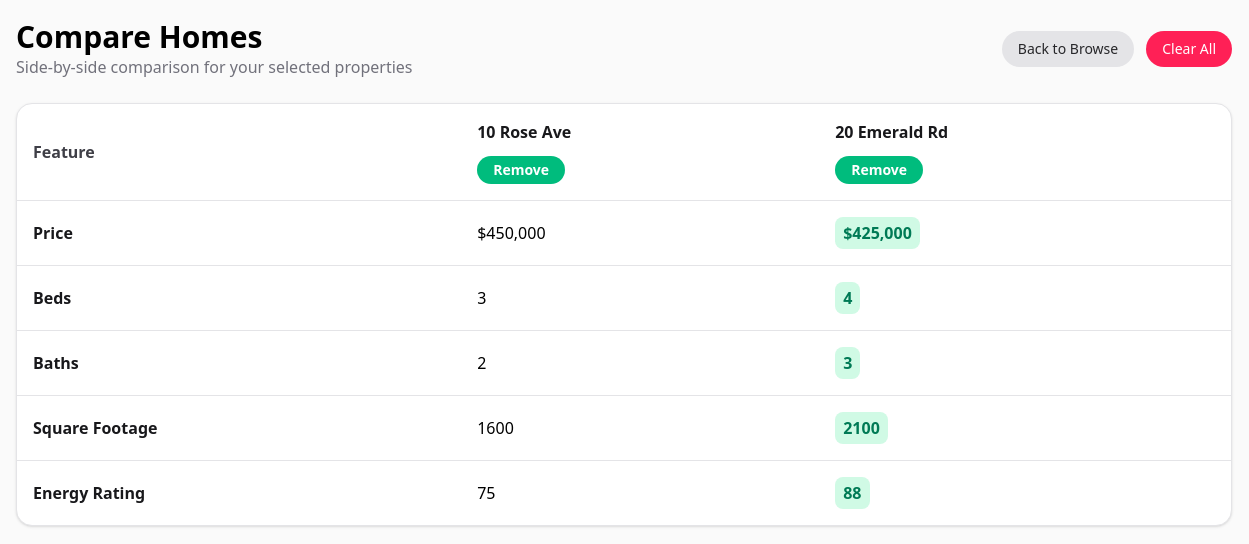
Test case: ComparisonPage › clears all selected listings from the page
The image size is (1249, 544).
Expected: the heading "Compare Homes" is shown, [16,16,262,57]
Click the button "Clear All": (1189, 49) [1146,31,1232,67]
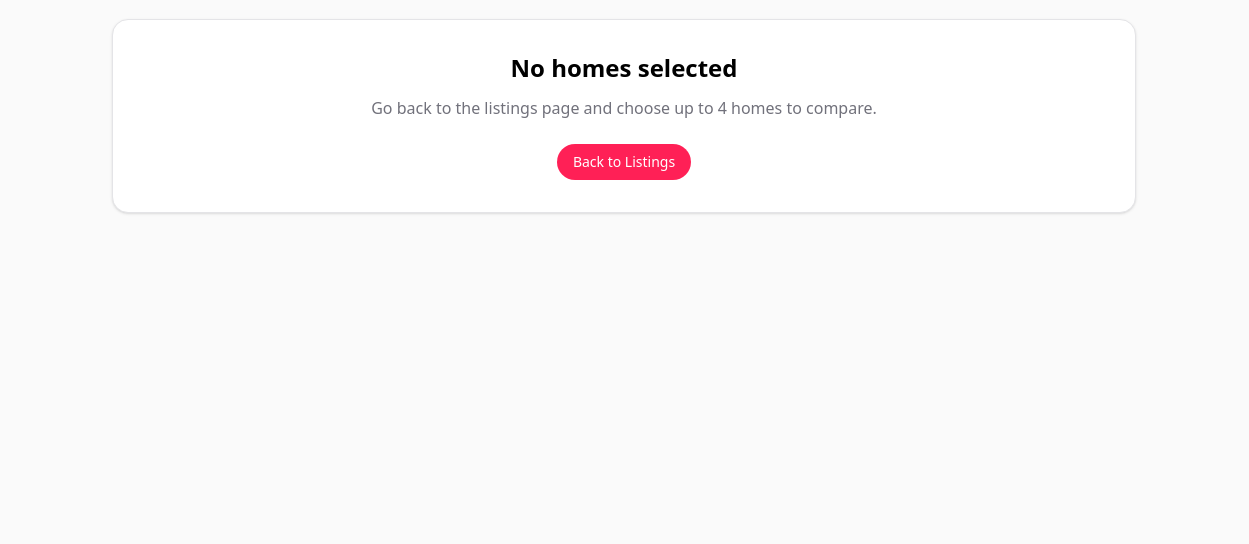
Expected: the heading "No homes selected" is shown, [510,51,737,84]
